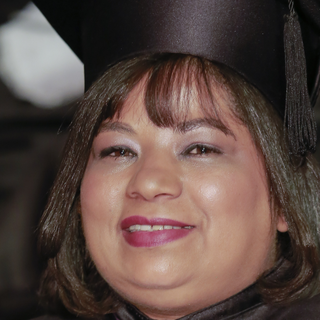eye: (98, 143, 140, 166), (178, 140, 223, 160)
